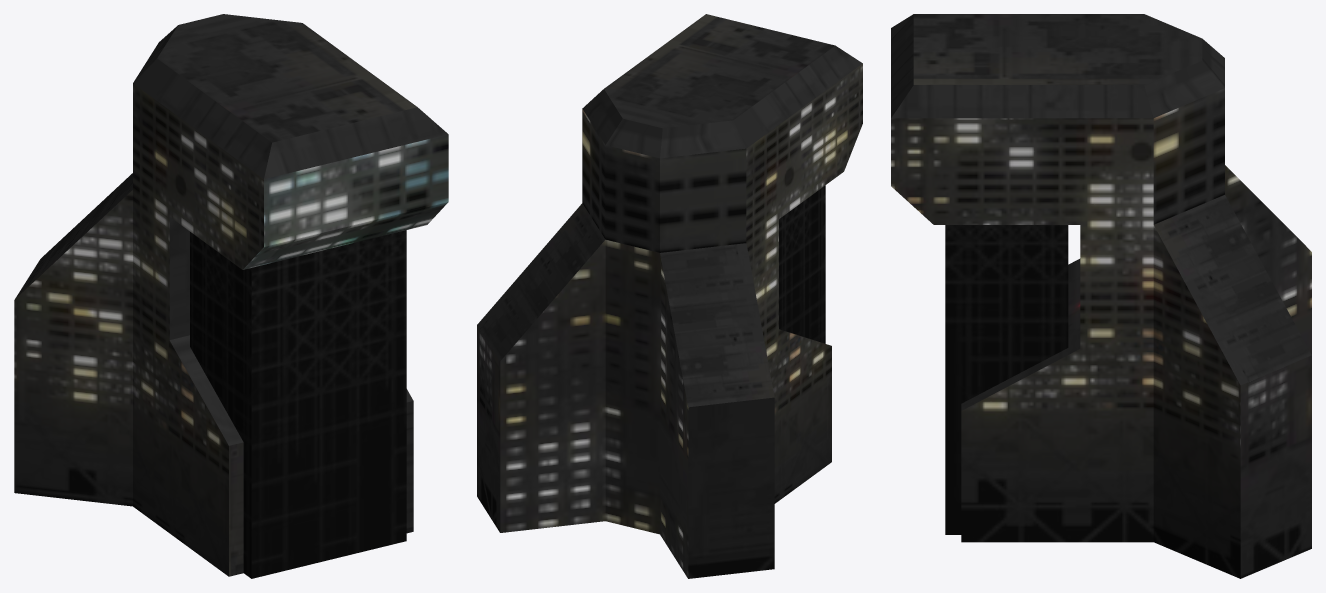
File: scifi_building_46.obj
3 views of the same model, side by side, from view 1: azimuth 30°, elevation 25°; view 2: azimuth 150°, elevation 25°; view 3: azimuth 270°, elevation 25° (orthographic). The views are drawn at different scales.
Parts seen in each view (by area): view 1: building_46; view 2: building_46; view 3: building_46.
Part boxes in pixels (bbox=[...]): building_46: bbox=[14, 14, 448, 578]; building_46: bbox=[477, 14, 862, 578]; building_46: bbox=[891, 14, 1311, 578].
Bounding box in the file's own units: 84.05 × 107 × 91.3.
1 material, 1 textured.
